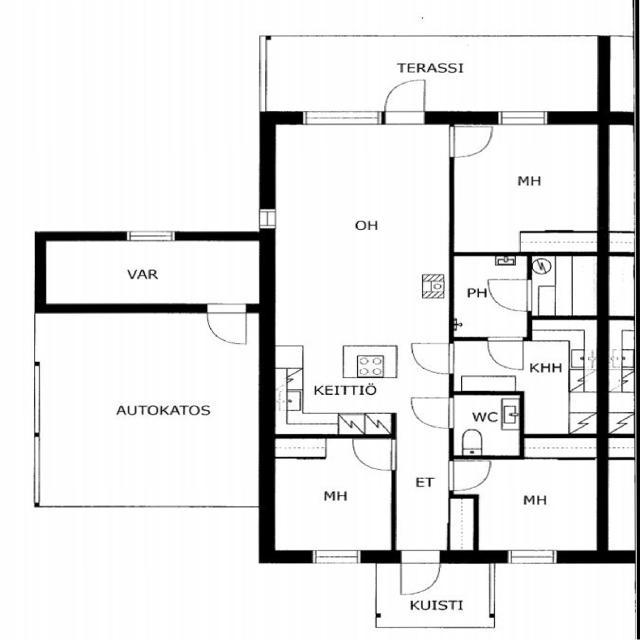door: (452, 259, 535, 334), (379, 76, 432, 126), (202, 302, 254, 348), (404, 391, 460, 433), (395, 550, 443, 598), (404, 339, 461, 378), (486, 275, 537, 316), (442, 457, 496, 495), (347, 436, 400, 474), (445, 122, 494, 160), (482, 334, 528, 372)
window: (293, 106, 389, 130), (490, 105, 555, 128), (500, 546, 564, 569), (300, 547, 368, 568), (28, 430, 46, 506), (116, 227, 182, 245), (255, 202, 279, 232)
zone: (270, 111, 454, 431), (32, 308, 270, 512), (450, 119, 604, 252), (40, 235, 262, 308), (454, 452, 604, 556), (268, 438, 394, 556), (447, 337, 602, 422), (525, 316, 600, 434), (452, 254, 534, 336), (450, 392, 522, 459), (529, 254, 600, 317), (606, 460, 638, 554)
